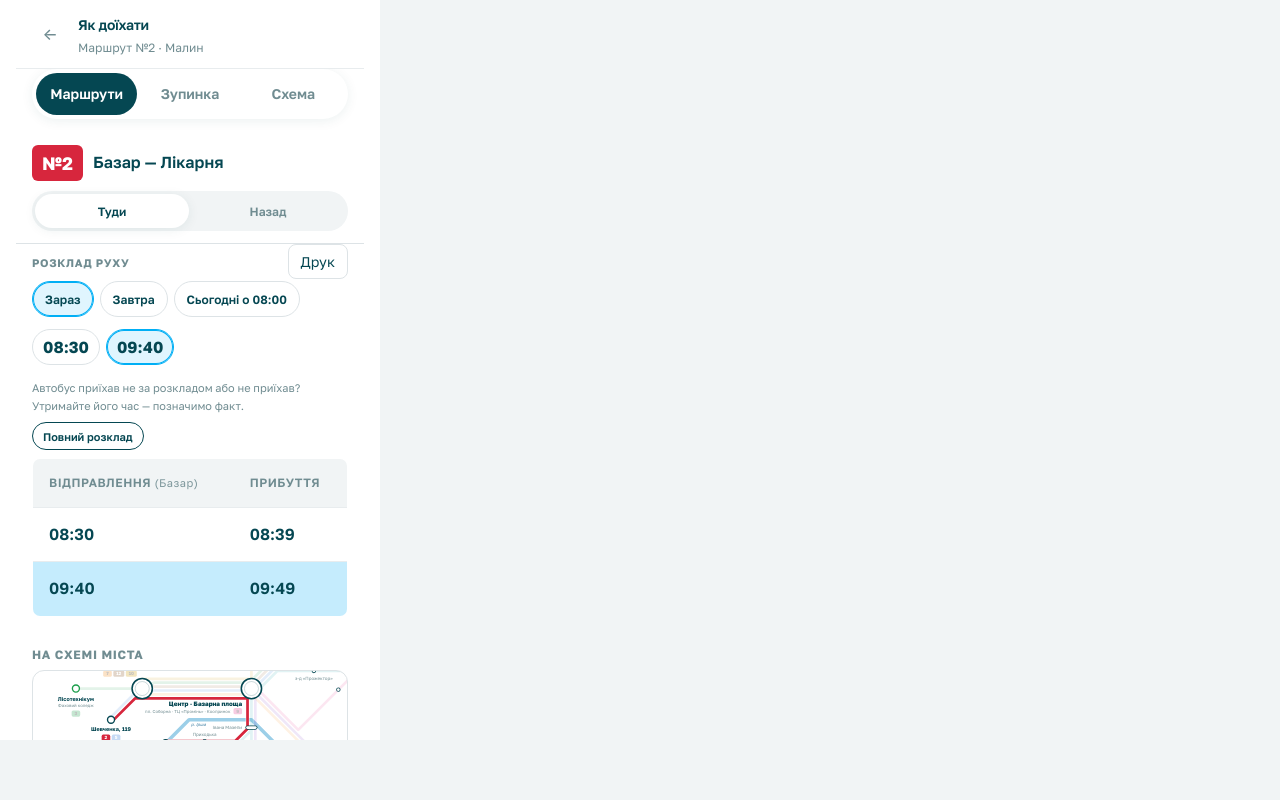
route page: long press on a departure chip › opens the sheet without pinning the trip and records «Автобус тут» for the «Звідки» stop
Expected: the text "Утримайте його час" is shown, [32,381,300,412]
Right-click the button "08:30": point(66, 347) [32,329,100,365]
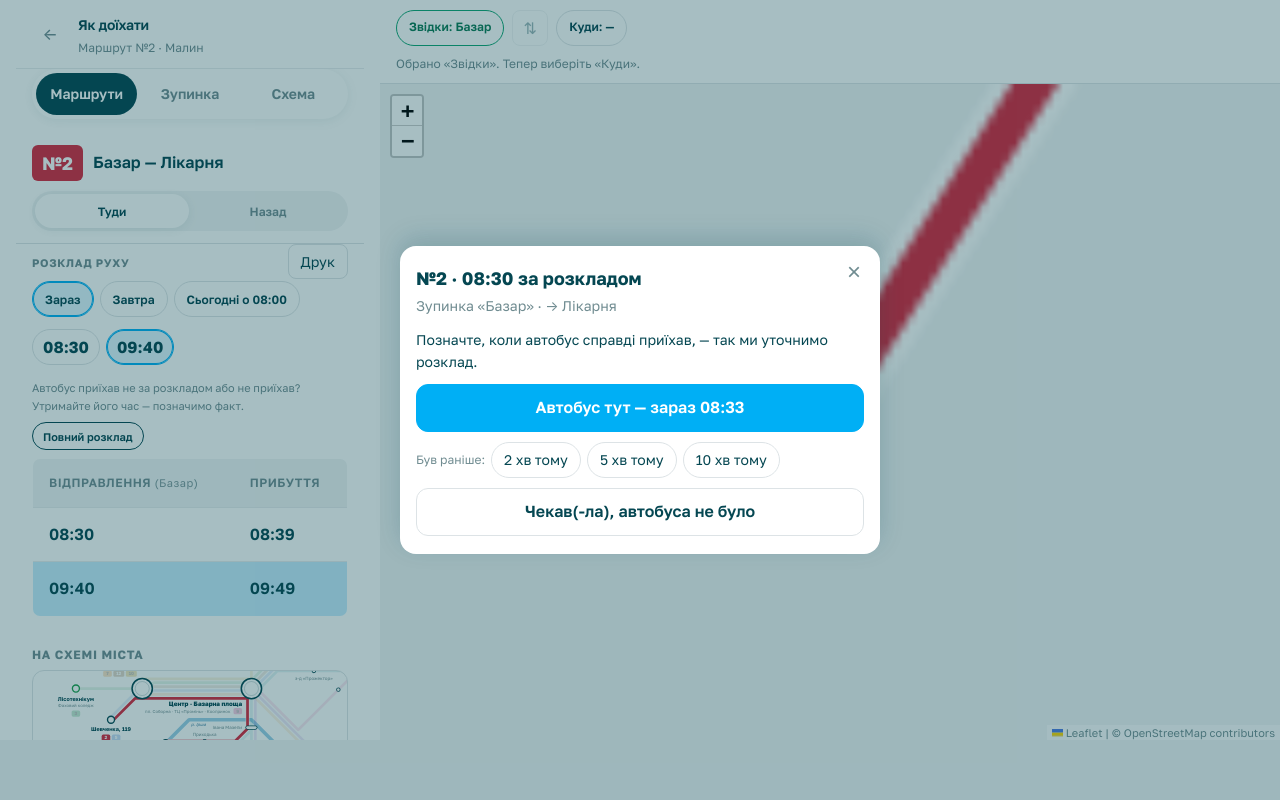
Expected: the dialog shows "№2 · 08:30 за розкладом", [400,246,880,554]
Expected: the dialog shows "Зупинка «Базар»", [400,246,880,554]
Click the button "Автобус тут — зараз 08:33": point(640, 408) [416,384,864,432]
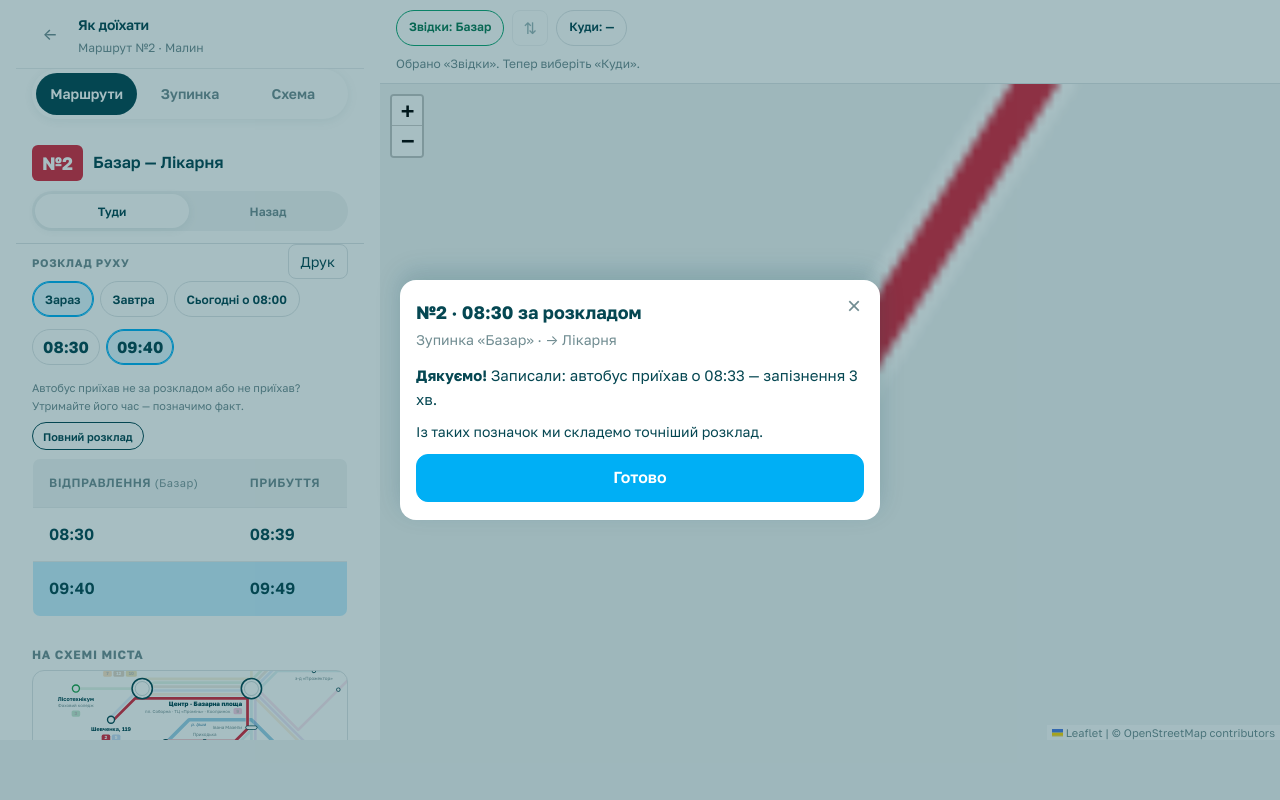
Expected: the text "Записали: автобус приїхав о 08:33 — запізнення 3 хв" is shown, [416,366,858,408]
Click the button "Готово": point(640, 478) [416,454,864,502]
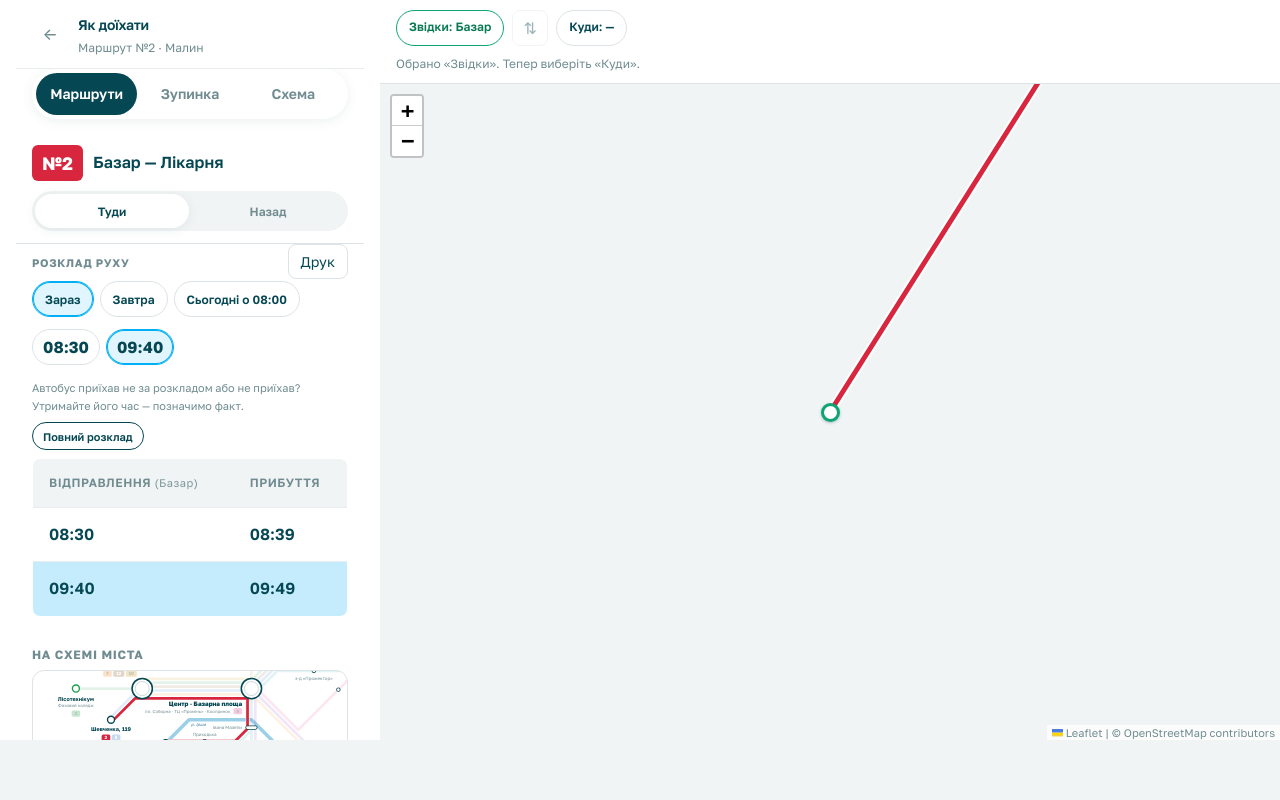
Expected: the dialog is gone
